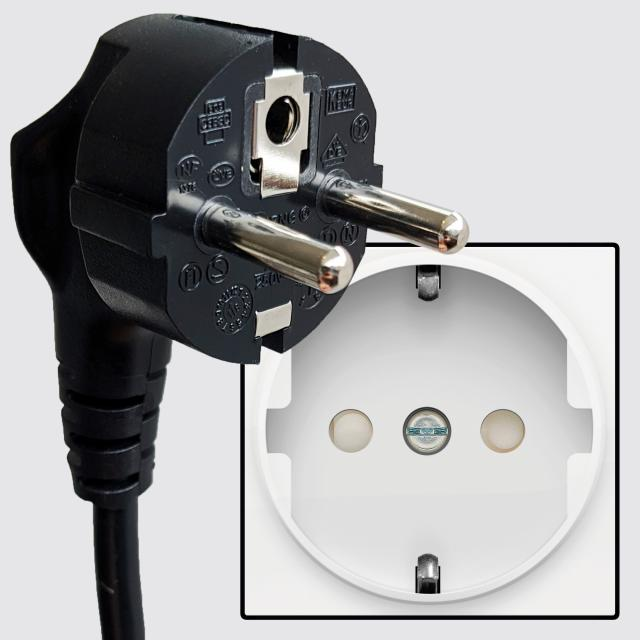typeb: (252, 238, 624, 620)
